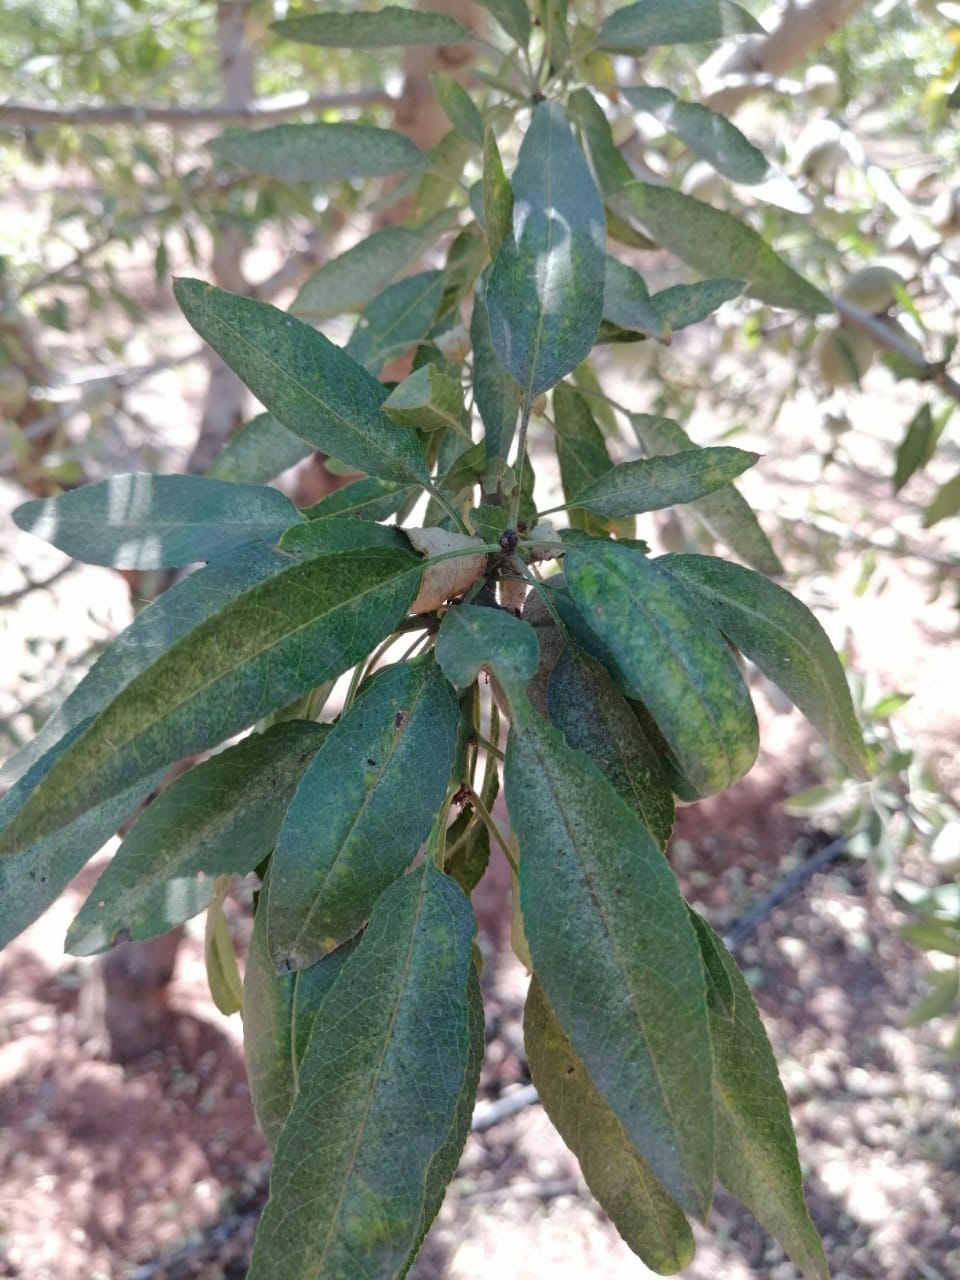acariens: (1, 548, 425, 856), (505, 692, 717, 1231), (246, 863, 476, 1280), (264, 656, 459, 979), (164, 271, 440, 487)
